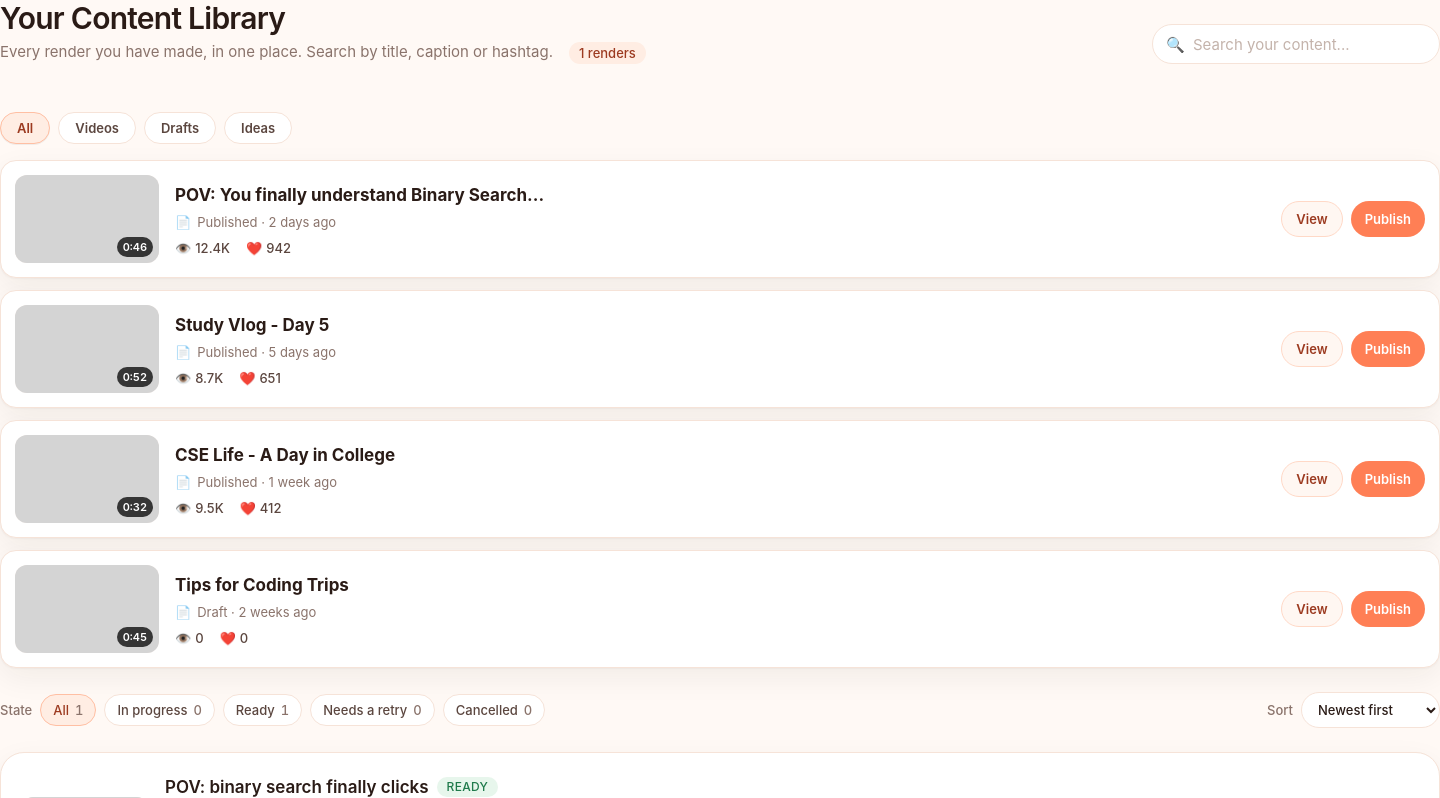
Test: LibraryPage › says nothing matches when a search comes back empty
Type "kubernetes" into the search field named "Search your library". click: x=1296, y=44
box: [1152, 24, 1439, 64]
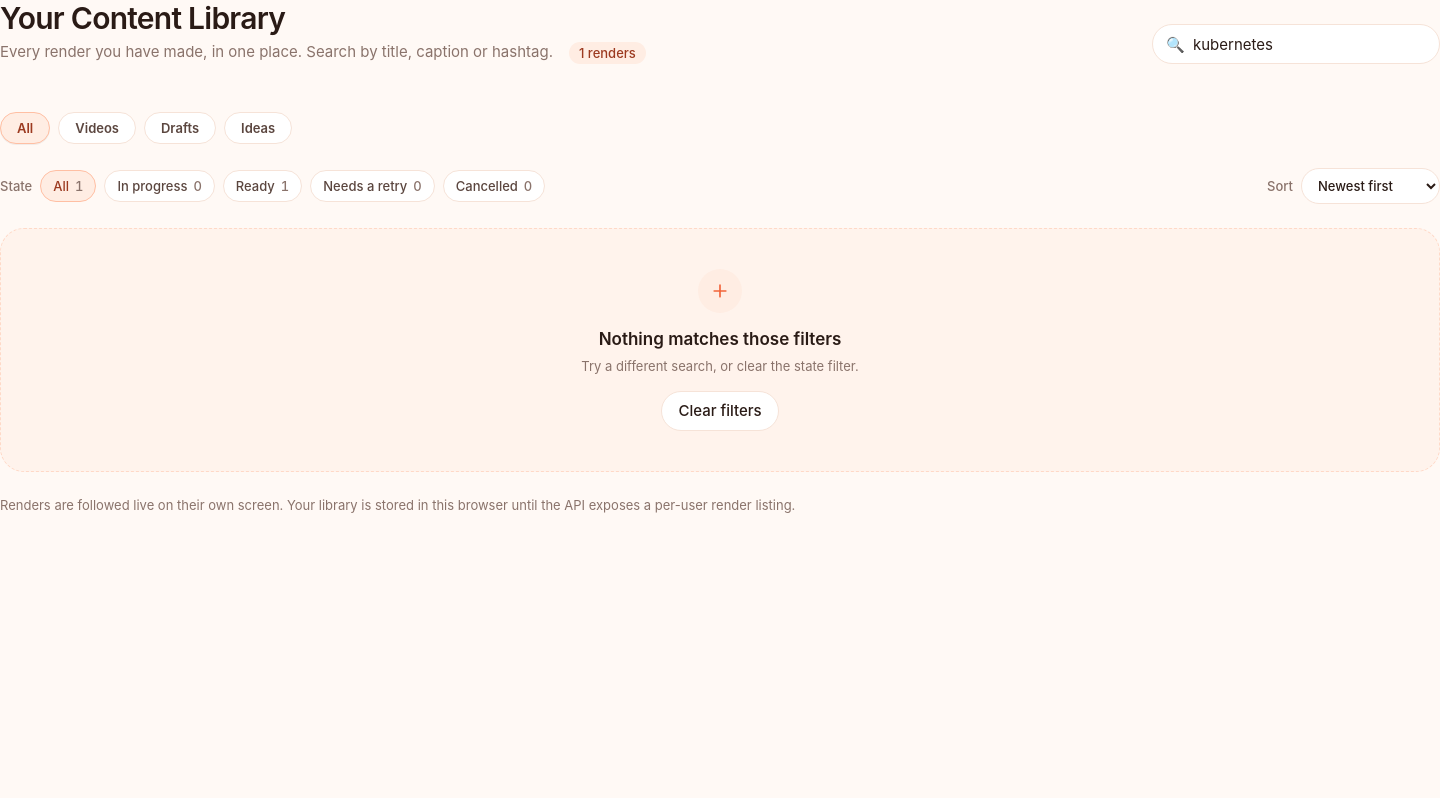
Expected: the heading "Nothing matches those filters" is shown, [599, 325, 841, 353]
Expected: the button "Clear filters" is shown, [661, 391, 779, 431]
